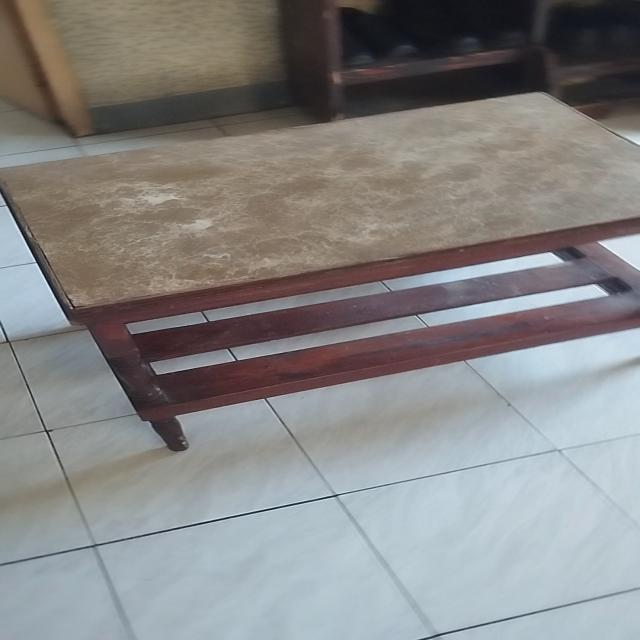table: (0, 84, 640, 458)
